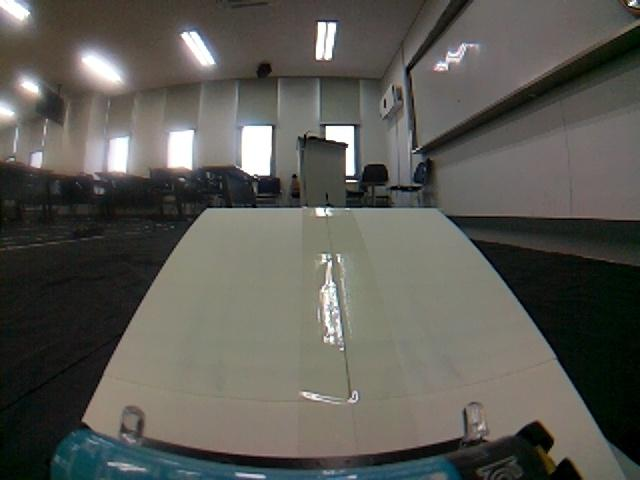hill_up: (61, 204, 640, 479)
